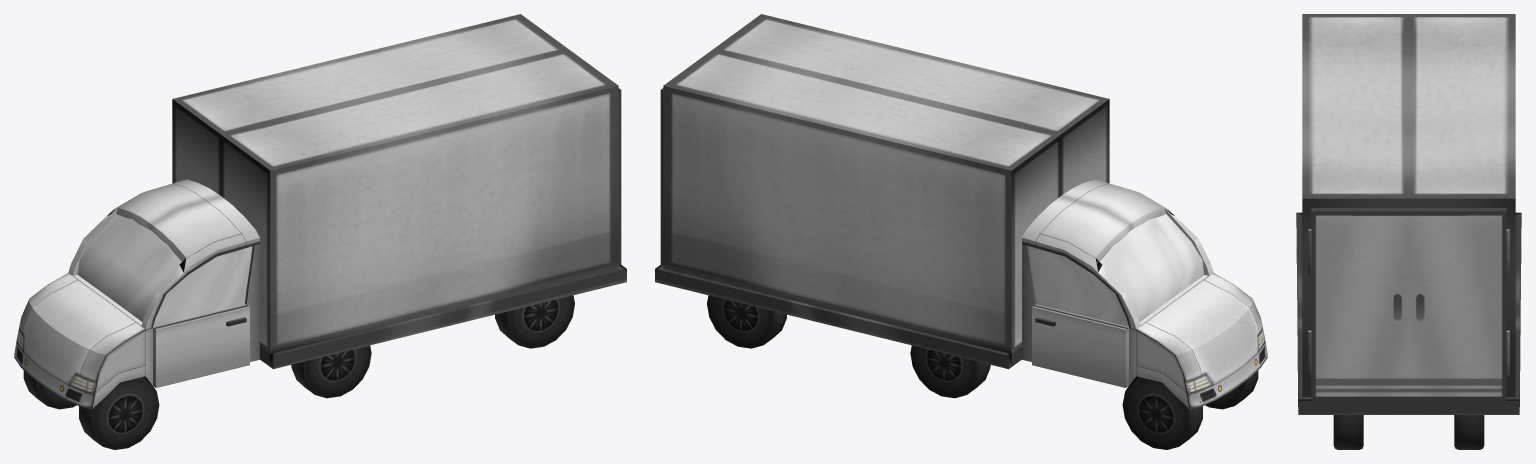
The model's file is Truck.FBX.
The picture shows the model from 3 angles, left to right: view 1: azimuth 30°, elevation 25°; view 2: azimuth 150°, elevation 25°; view 3: azimuth 270°, elevation 25°; orthographic projection. The views are drawn at different scales.
Parts seen in each view (by area): view 1: Box204, Object006, Object005, Object003; view 2: Box204, Object007, Object005, Object004; view 3: Box204, Object003, Object004, Object005.
Part boxes in pixels (x1,y1,x2,y2): Box204: [14, 14, 626, 409]; Object006: [153, 246, 252, 387]; Object005: [23, 295, 574, 449]; Object003: [618, 88, 621, 264]; Box204: [655, 14, 1267, 409]; Object007: [1029, 246, 1128, 387]; Object005: [707, 295, 1258, 449]; Object004: [660, 88, 663, 264]; Box204: [1296, 14, 1521, 414]; Object003: [1308, 208, 1408, 400]; Object004: [1409, 208, 1509, 400]; Object005: [1333, 415, 1484, 449].
Bounding box in the file's own units: 240 × 110 × 80.3.
